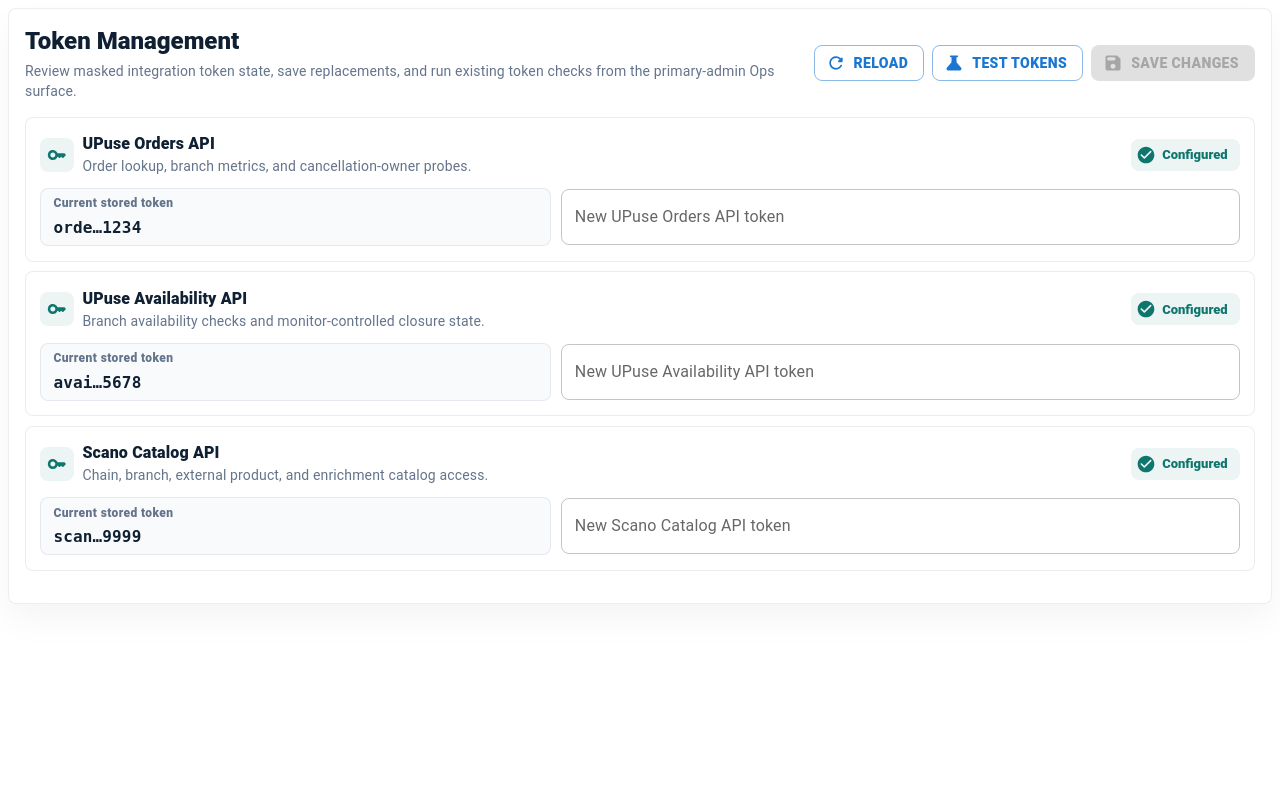
Test: OpsTokenManagementPanel › tests draft tokens while keeping telemetry metadata free of raw token values
The width and height of the screenshot is (1280, 800).
Expected: the text "Scano Catalog API" is shown, [82, 443, 220, 462]
Type "draft-orders-token-secret" into the password field labelled "New UPuse Orders API token" at (900, 217), box [561, 189, 1240, 245]
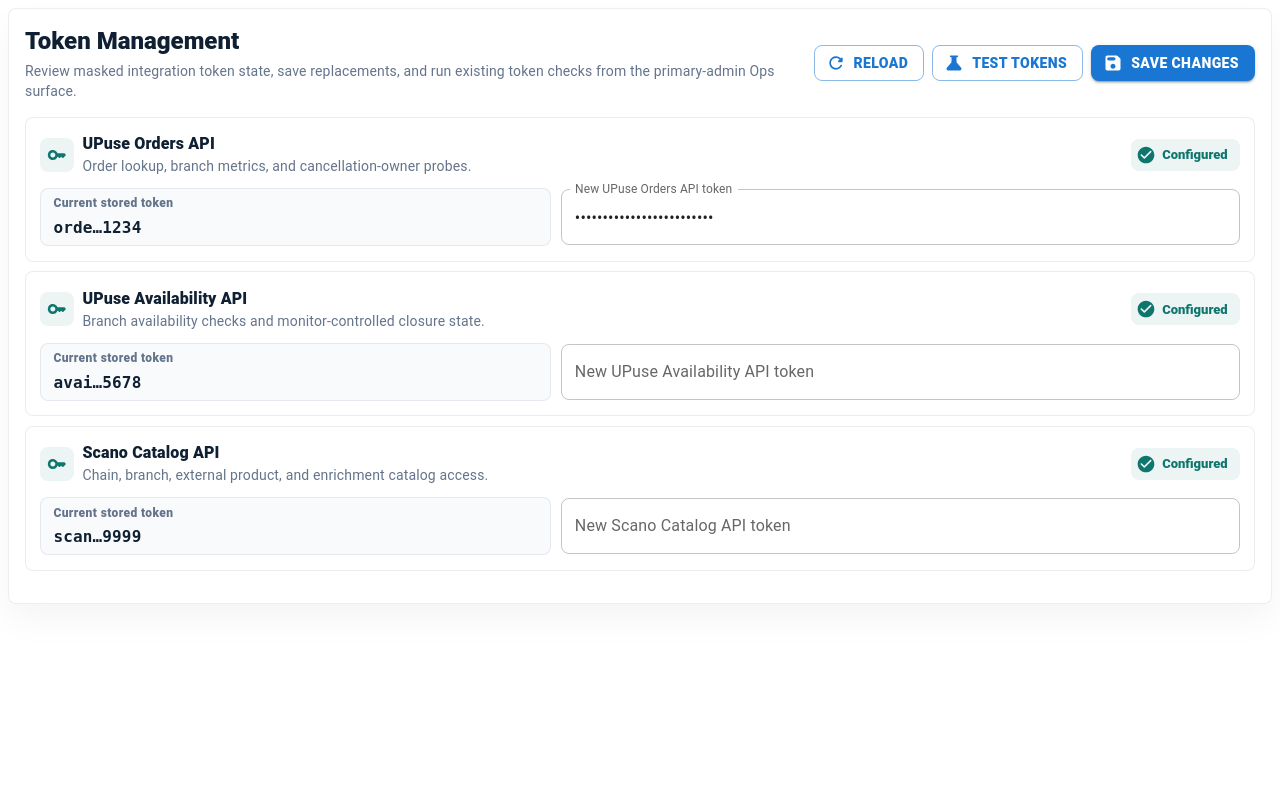
Type "draft-scano-token-secret" into the password field labelled "New Scano Catalog API token" at (900, 526), box [561, 498, 1240, 554]
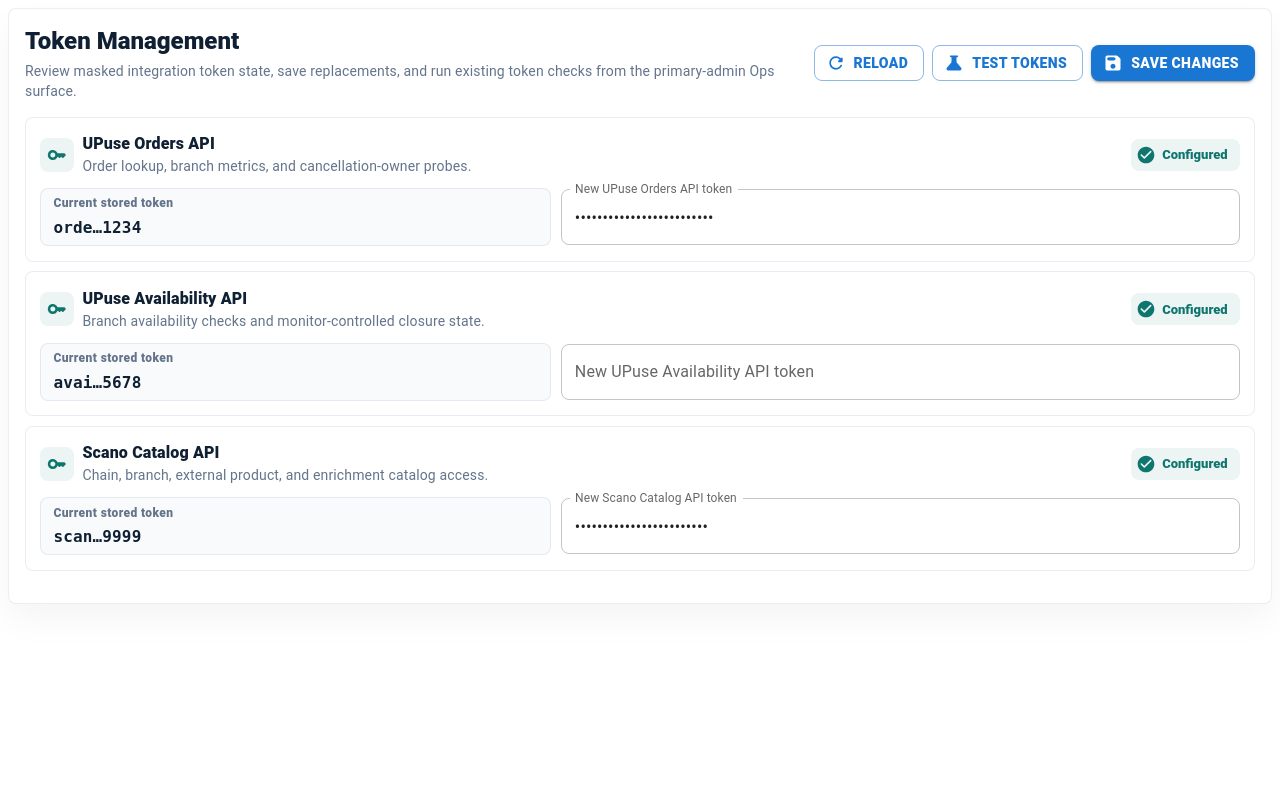
Click the button "Test Tokens" at (1008, 63), box [932, 45, 1083, 81]
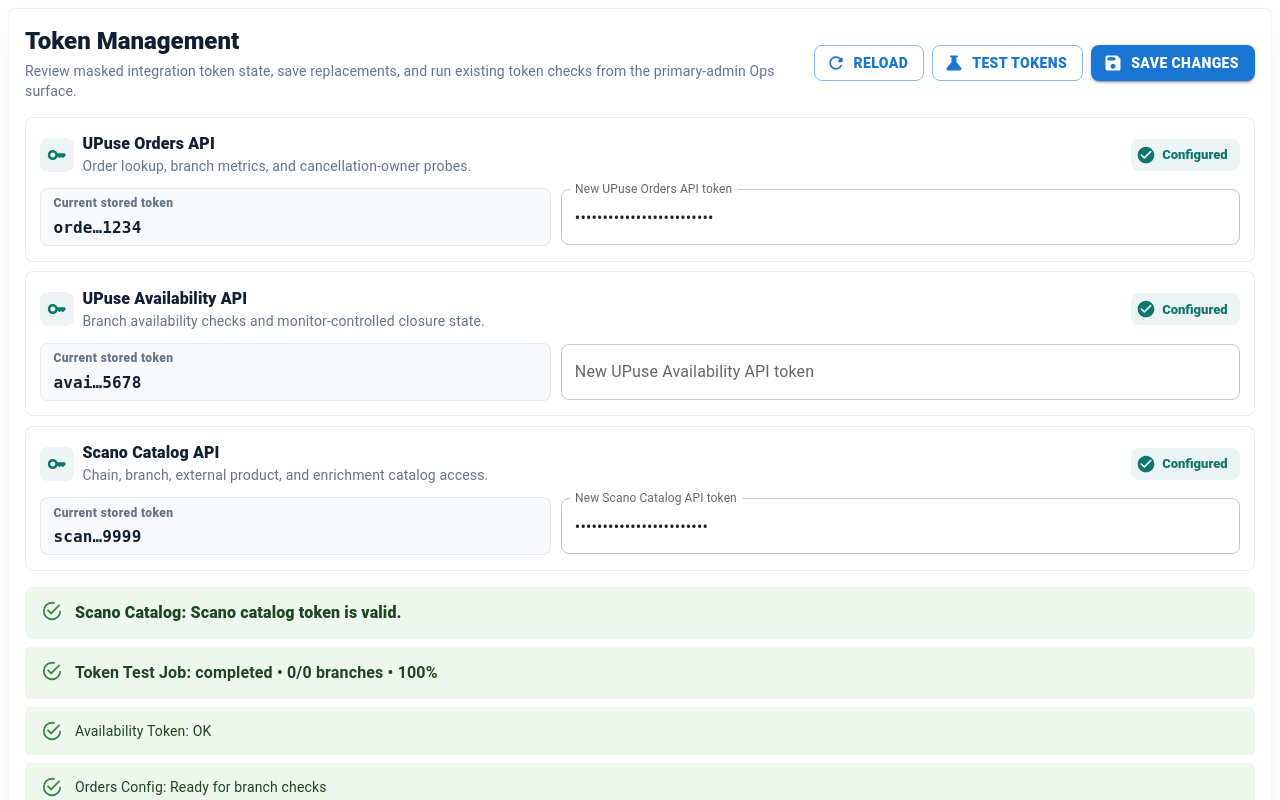
Result: the text "Scano Catalog: Scano catalog token is valid." is shown at [75, 601, 402, 625]
Result: the text "Token Test Job: completed • 0/0 branches • 100%" is shown at [75, 661, 438, 685]
